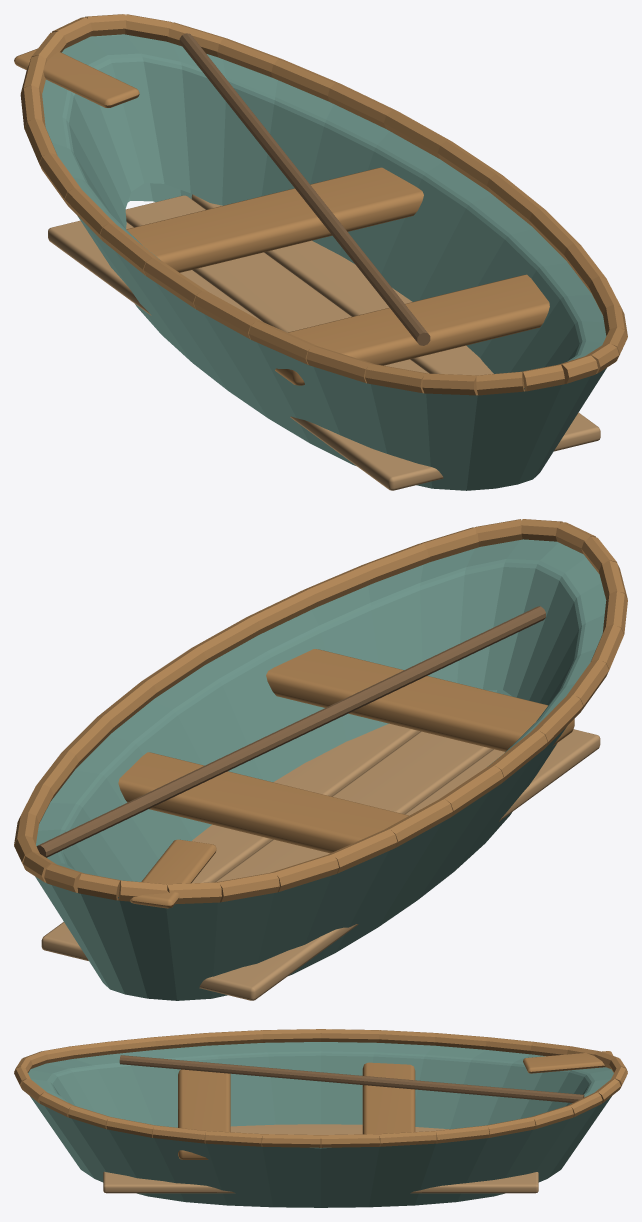
File: shore_rowboat.glb
3 renders of one model, top to bottom at view 1: azimuth 30°, elevation 25°; view 2: azimuth 150°, elevation 25°; view 3: azimuth 270°, elevation 25°, orthographic. The views are drawn at different scales.
Visible parts, largest first — view 1: Open painted hull, Oak gunwale, Interior floorboard, Oar handle; view 2: Open painted hull, Oak gunwale, Interior floorboard, Oar handle; view 3: Open painted hull, Oak gunwale, Interior floorboard, Oar handle.
Boxes of the visible parts, <box> form: Open painted hull: <box>42,34,606,490</box>; Oak gunwale: <box>14,14,627,395</box>; Interior floorboard: <box>48,194,600,490</box>; Oar handle: <box>179,33,430,345</box>; Open painted hull: <box>35,539,606,1000</box>; Oak gunwale: <box>14,519,627,908</box>; Interior floorboard: <box>41,724,600,1000</box>; Oar handle: <box>36,606,545,857</box>; Open painted hull: <box>28,1042,613,1207</box>; Oak gunwale: <box>14,1029,627,1159</box>; Interior floorboard: <box>103,1124,538,1193</box>; Oar handle: <box>119,1055,584,1102</box>.
Size of the model in its own units: 1.36 by 0.6349 by 3.16.
